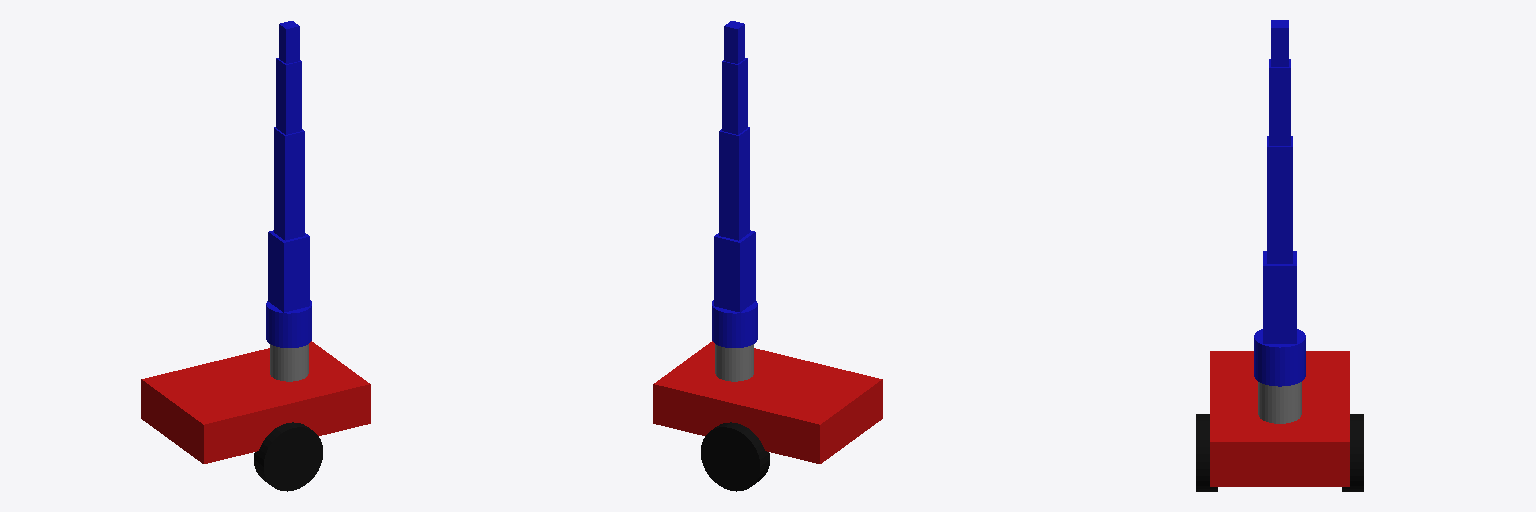
The robot description file, URDF, robot "pioneer_movemaster_robot":
<?xml version="1.0"?>
<robot name="pioneer_movemaster_robot">
  
  <!-- Pioneer 3AT Base -->
  <link name="base_link">
    <visual>
      <origin xyz="0 0 0.177" rpy="0 0 0"/>
      <geometry>
        <box size="0.501 0.323 0.114"/>
      </geometry>
      <material name="pioneer_red">
        <color rgba="0.8 0.1 0.1 1.0"/>
      </material>
    </visual>
    <collision>
      <origin xyz="0 0 0.177" rpy="0 0 0"/>
      <geometry>
        <box size="0.501 0.323 0.114"/>
      </geometry>
    </collision>
    <inertial>
      <mass value="16.0"/>
      <origin xyz="0 0 0.177"/>
      <inertia ixx="0.3338" ixy="0.0" ixz="0.0" iyy="1.2835" iyz="0.0" izz="1.4165"/>
    </inertial>
  </link>

  <!-- Pioneer Wheels -->
  <link name="left_wheel">
    <visual>
      <origin xyz="0 0 0" rpy="1.5708 0 0"/>
      <geometry>
        <cylinder radius="0.09" length="0.05"/>
      </geometry>
      <material name="wheel_black">
        <color rgba="0.1 0.1 0.1 1.0"/>
      </material>
    </visual>
    <collision>
      <origin xyz="0 0 0" rpy="1.5708 0 0"/>
      <geometry>
        <cylinder radius="0.09" length="0.05"/>
      </geometry>
    </collision>
    <inertial>
      <mass value="0.5"/>
      <origin xyz="0 0 0"/>
      <inertia ixx="0.01" ixy="0.0" ixz="0.0" iyy="0.005" iyz="0.0" izz="0.005"/>
    </inertial>
  </link>

  <link name="right_wheel">
    <visual>
      <origin xyz="0 0 0" rpy="1.5708 0 0"/>
      <geometry>
        <cylinder radius="0.09" length="0.05"/>
      </geometry>
      <material name="wheel_black">
        <color rgba="0.1 0.1 0.1 1.0"/>
      </material>
    </visual>
    <collision>
      <origin xyz="0 0 0" rpy="1.5708 0 0"/>
      <geometry>
        <cylinder radius="0.09" length="0.05"/>
      </geometry>
    </collision>
    <inertial>
      <mass value="0.5"/>
      <origin xyz="0 0 0"/>
      <inertia ixx="0.01" ixy="0.0" ixz="0.0" iyy="0.005" iyz="0.0" izz="0.005"/>
    </inertial>
  </link>

  <!-- Wheel Joints -->
  <joint name="left_wheel_joint" type="continuous">
    <parent link="base_link"/>
    <child link="left_wheel"/>
    <origin xyz="0 0.17 0.09" rpy="0 0 0"/>
    <axis xyz="0 1 0"/>
  </joint>

  <joint name="right_wheel_joint" type="continuous">
    <parent link="base_link"/>
    <child link="right_wheel"/>
    <origin xyz="0 -0.17 0.09" rpy="0 0 0"/>
    <axis xyz="0 1 0"/>
  </joint>

  <!-- Movemaster R1 Base Mount -->
  <link name="arm_base_mount">
    <visual>
      <origin xyz="0 0 0.05" rpy="0 0 0"/>
      <geometry>
        <cylinder radius="0.05" length="0.1"/>
      </geometry>
      <material name="mount_gray">
        <color rgba="0.5 0.5 0.5 1.0"/>
      </material>
    </visual>
    <collision>
      <origin xyz="0 0 0.05" rpy="0 0 0"/>
      <geometry>
        <cylinder radius="0.05" length="0.1"/>
      </geometry>
    </collision>
    <inertial>
      <mass value="1.0"/>
      <origin xyz="0 0 0.05"/>
      <inertia ixx="0.01" ixy="0.0" ixz="0.0" iyy="0.01" iyz="0.0" izz="0.001"/>
    </inertial>
  </link>

  <joint name="arm_mount_joint" type="fixed">
    <parent link="base_link"/>
    <child link="arm_base_mount"/>
    <origin xyz="0.1 0 0.234" rpy="0 0 0"/>
  </joint>

  <!-- Movemaster R1 Links -->
  <link name="arm_base">
    <visual>
      <origin xyz="0 0 0.05" rpy="0 0 0"/>
      <geometry>
        <cylinder radius="0.06" length="0.1"/>
      </geometry>
      <material name="arm_blue">
        <color rgba="0.1 0.1 0.8 1.0"/>
      </material>
    </visual>
    <collision>
      <origin xyz="0 0 0.05" rpy="0 0 0"/>
      <geometry>
        <cylinder radius="0.06" length="0.1"/>
      </geometry>
    </collision>
    <inertial>
      <mass value="2.0"/>
      <origin xyz="0 0 0.05"/>
      <inertia ixx="0.02" ixy="0.0" ixz="0.0" iyy="0.02" iyz="0.0" izz="0.01"/>
    </inertial>
  </link>

  <link name="shoulder">
    <visual>
      <origin xyz="0 0 0.1" rpy="0 0 0"/>
      <geometry>
        <box size="0.08 0.08 0.2"/>
      </geometry>
      <material name="arm_blue"/>
    </visual>
    <collision>
      <origin xyz="0 0 0.1" rpy="0 0 0"/>
      <geometry>
        <box size="0.08 0.08 0.2"/>
      </geometry>
    </collision>
    <inertial>
      <mass value="1.5"/>
      <origin xyz="0 0 0.1"/>
      <inertia ixx="0.015" ixy="0.0" ixz="0.0" iyy="0.015" iyz="0.0" izz="0.008"/>
    </inertial>
  </link>

  <link name="upper_arm">
    <visual>
      <origin xyz="0 0 0.15" rpy="0 0 0"/>
      <geometry>
        <box size="0.06 0.06 0.3"/>
      </geometry>
      <material name="arm_blue"/>
    </visual>
    <collision>
      <origin xyz="0 0 0.15" rpy="0 0 0"/>
      <geometry>
        <box size="0.06 0.06 0.3"/>
      </geometry>
    </collision>
    <inertial>
      <mass value="1.2"/>
      <origin xyz="0 0 0.15"/>
      <inertia ixx="0.012" ixy="0.0" ixz="0.0" iyy="0.012" iyz="0.0" izz="0.006"/>
    </inertial>
  </link>

  <link name="forearm">
    <visual>
      <origin xyz="0 0 0.1" rpy="0 0 0"/>
      <geometry>
        <box size="0.05 0.05 0.2"/>
      </geometry>
      <material name="arm_blue"/>
    </visual>
    <collision>
      <origin xyz="0 0 0.1" rpy="0 0 0"/>
      <geometry>
        <box size="0.05 0.05 0.2"/>
      </geometry>
    </collision>
    <inertial>
      <mass value="0.8"/>
      <origin xyz="0 0 0.1"/>
      <inertia ixx="0.008" ixy="0.0" ixz="0.0" iyy="0.008" iyz="0.0" izz="0.004"/>
    </inertial>
  </link>

  <link name="end_effector">
    <visual>
      <origin xyz="0 0 0.05" rpy="0 0 0"/>
      <geometry>
        <box size="0.04 0.04 0.1"/>
      </geometry>
      <material name="arm_blue"/>
    </visual>
    <collision>
      <origin xyz="0 0 0.05" rpy="0 0 0"/>
      <geometry>
        <box size="0.04 0.04 0.1"/>
      </geometry>
    </collision>
    <inertial>
      <mass value="0.5"/>
      <origin xyz="0 0 0.05"/>
      <inertia ixx="0.005" ixy="0.0" ixz="0.0" iyy="0.005" iyz="0.0" izz="0.002"/>
    </inertial>
  </link>

  <!-- Arm Joints -->
  <joint name="base_joint" type="revolute">
    <parent link="arm_base_mount"/>
    <child link="arm_base"/>
    <origin xyz="0 0 0.1" rpy="0 0 0"/>
    <axis xyz="0 0 1"/>
    <limit lower="-3.14159" upper="3.14159" effort="10" velocity="1.0"/>
  </joint>

  <joint name="shoulder_joint" type="revolute">
    <parent link="arm_base"/>
    <child link="shoulder"/>
    <origin xyz="0 0 0.1" rpy="0 0 0"/>
    <axis xyz="0 1 0"/>
    <limit lower="-1.57" upper="1.57" effort="10" velocity="1.0"/>
  </joint>

  <joint name="elbow_joint" type="revolute">
    <parent link="shoulder"/>
    <child link="upper_arm"/>
    <origin xyz="0 0 0.2" rpy="0 0 0"/>
    <axis xyz="0 1 0"/>
    <limit lower="-2.0" upper="2.0" effort="10" velocity="1.0"/>
  </joint>

  <joint name="wrist_joint" type="revolute">
    <parent link="upper_arm"/>
    <child link="forearm"/>
    <origin xyz="0 0 0.3" rpy="0 0 0"/>
    <axis xyz="0 1 0"/>
    <limit lower="-1.57" upper="1.57" effort="5" velocity="1.0"/>
  </joint>

  <joint name="end_effector_joint" type="revolute">
    <parent link="forearm"/>
    <child link="end_effector"/>
    <origin xyz="0 0 0.2" rpy="0 0 0"/>
    <axis xyz="0 0 1"/>
    <limit lower="-3.14159" upper="3.14159" effort="2" velocity="1.0"/>
  </joint>

</robot>

--- What the picture shows (computed from the rendered views, not written in the file) ---
Views: 3 orthographic renders of the robot side by side, from view 1: azimuth 30°, elevation 25°; view 2: azimuth 150°, elevation 25°; view 3: azimuth 270°, elevation 25°.
Model pioneer_movemaster_robot with 9 links and 8 joints (5 revolute, 2 continuous, 1 fixed), rooted at base_link, posed all joints at 0.
Links seen in each view (by area): view 1: base_link, right_wheel, upper_arm, shoulder, forearm, arm_base, arm_base_mount, end_effector; view 2: base_link, left_wheel, upper_arm, shoulder, forearm, arm_base, arm_base_mount, end_effector; view 3: base_link, upper_arm, shoulder, arm_base, forearm, arm_base_mount, left_wheel, right_wheel, end_effector.
Boxes of the visible links, x1=… form: base_link: x1=141, y1=341, x2=370, y2=463; right_wheel: x1=254, y1=422, x2=322, y2=491; upper_arm: x1=274, y1=127, x2=304, y2=240; shoulder: x1=268, y1=230, x2=309, y2=312; forearm: x1=276, y1=58, x2=301, y2=134; arm_base: x1=266, y1=300, x2=311, y2=347; arm_base_mount: x1=270, y1=344, x2=308, y2=381; end_effector: x1=279, y1=21, x2=299, y2=63; base_link: x1=653, y1=341, x2=882, y2=463; left_wheel: x1=701, y1=422, x2=769, y2=491; upper_arm: x1=719, y1=127, x2=749, y2=240; shoulder: x1=714, y1=230, x2=755, y2=312; forearm: x1=722, y1=58, x2=747, y2=134; arm_base: x1=712, y1=300, x2=757, y2=347; arm_base_mount: x1=715, y1=344, x2=753, y2=381; end_effector: x1=724, y1=21, x2=744, y2=63; base_link: x1=1210, y1=351, x2=1349, y2=486; upper_arm: x1=1267, y1=136, x2=1292, y2=263; shoulder: x1=1263, y1=251, x2=1296, y2=343; arm_base: x1=1254, y1=329, x2=1305, y2=386; forearm: x1=1269, y1=59, x2=1290, y2=145; arm_base_mount: x1=1258, y1=382, x2=1301, y2=423; left_wheel: x1=1342, y1=414, x2=1363, y2=491; right_wheel: x1=1196, y1=414, x2=1217, y2=491; end_effector: x1=1271, y1=20, x2=1288, y2=66.
Bounding box of the posed robot: 0.501 × 0.39 × 1.23 m (x, y, z).
Geometry: primitives only (box / cylinder / sphere), no mesh files.
